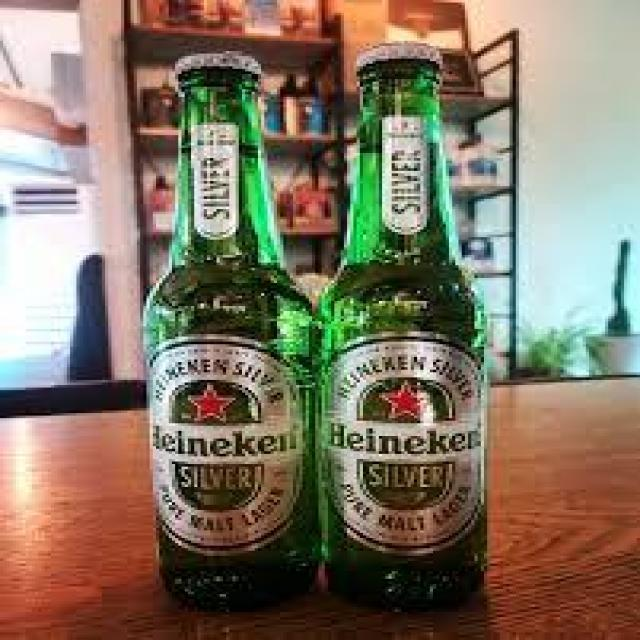beer-bottle: (299, 31, 503, 620), (136, 50, 320, 613)
